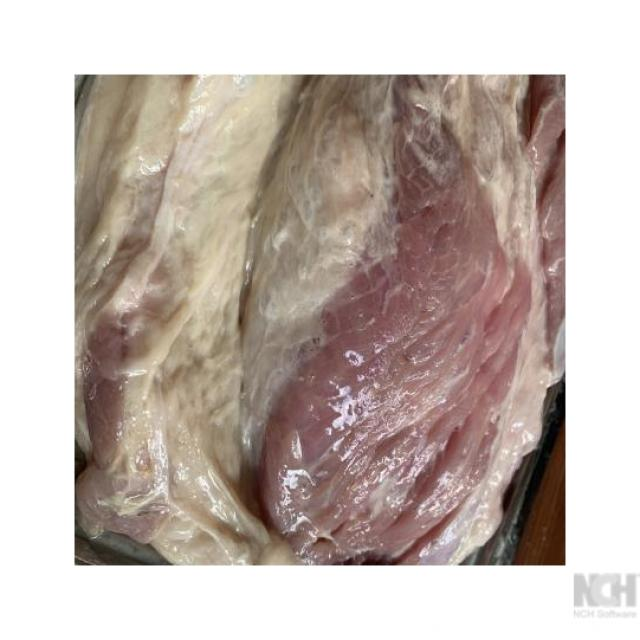rotten meat: (51, 51, 578, 574)
